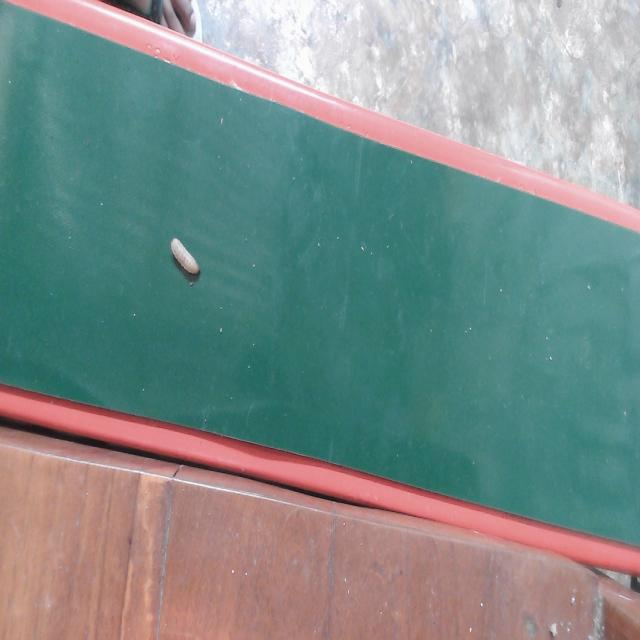Maggot: (170, 238, 202, 285)
